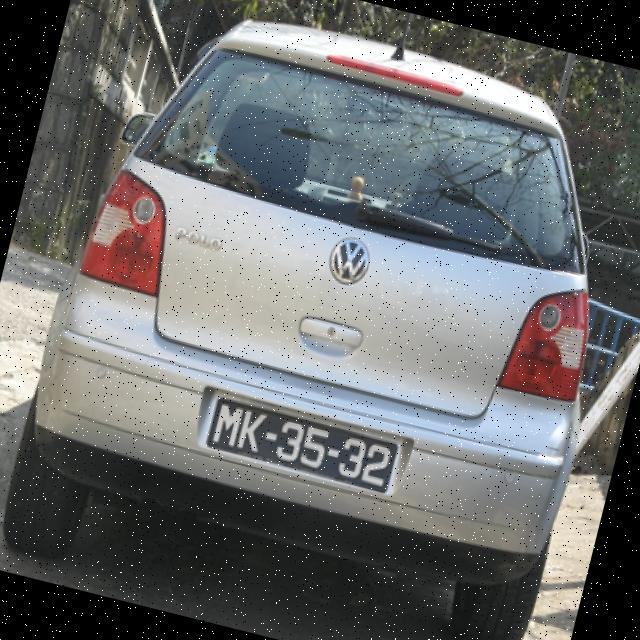Autre: (204, 398, 403, 499)
